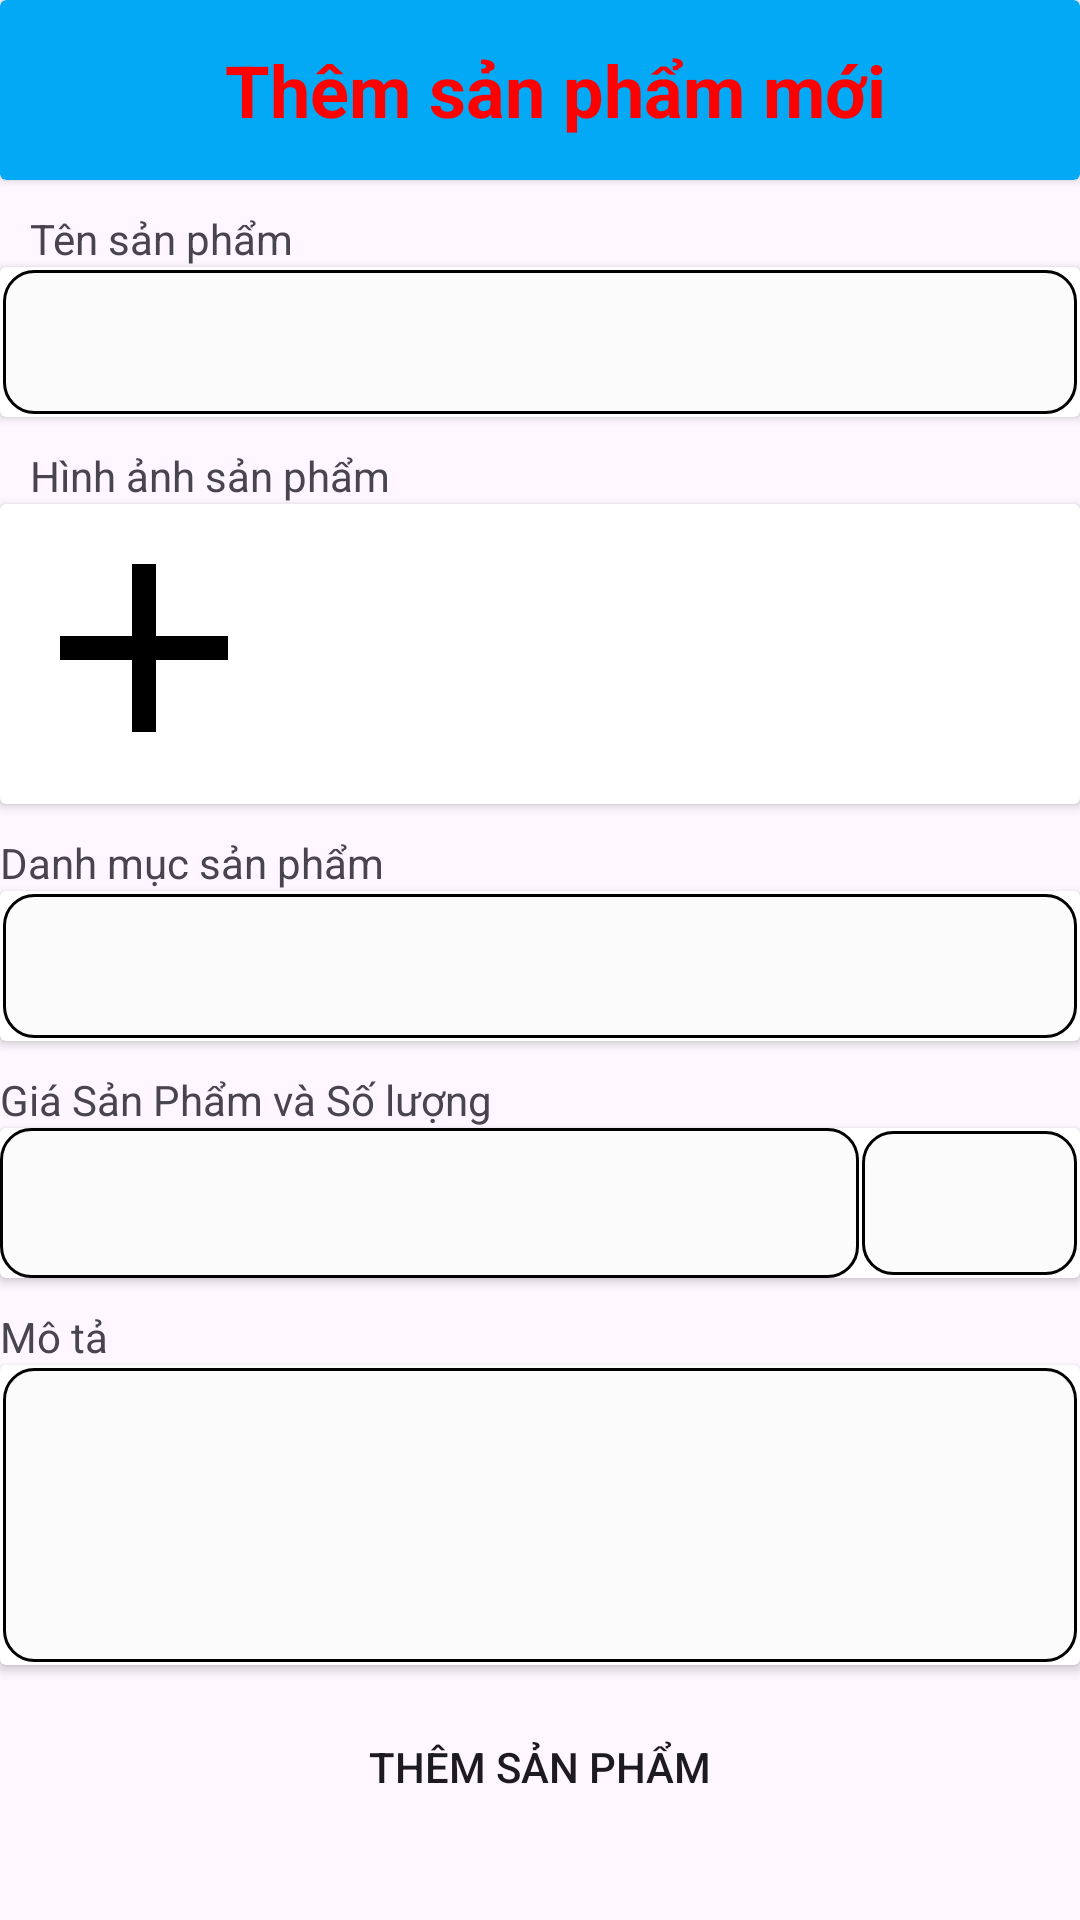

Icon bounding boxes for this 1080 x 1920 phone screenshot, format (x1, y1, x2, y2):
add: (0, 504, 228, 732)
